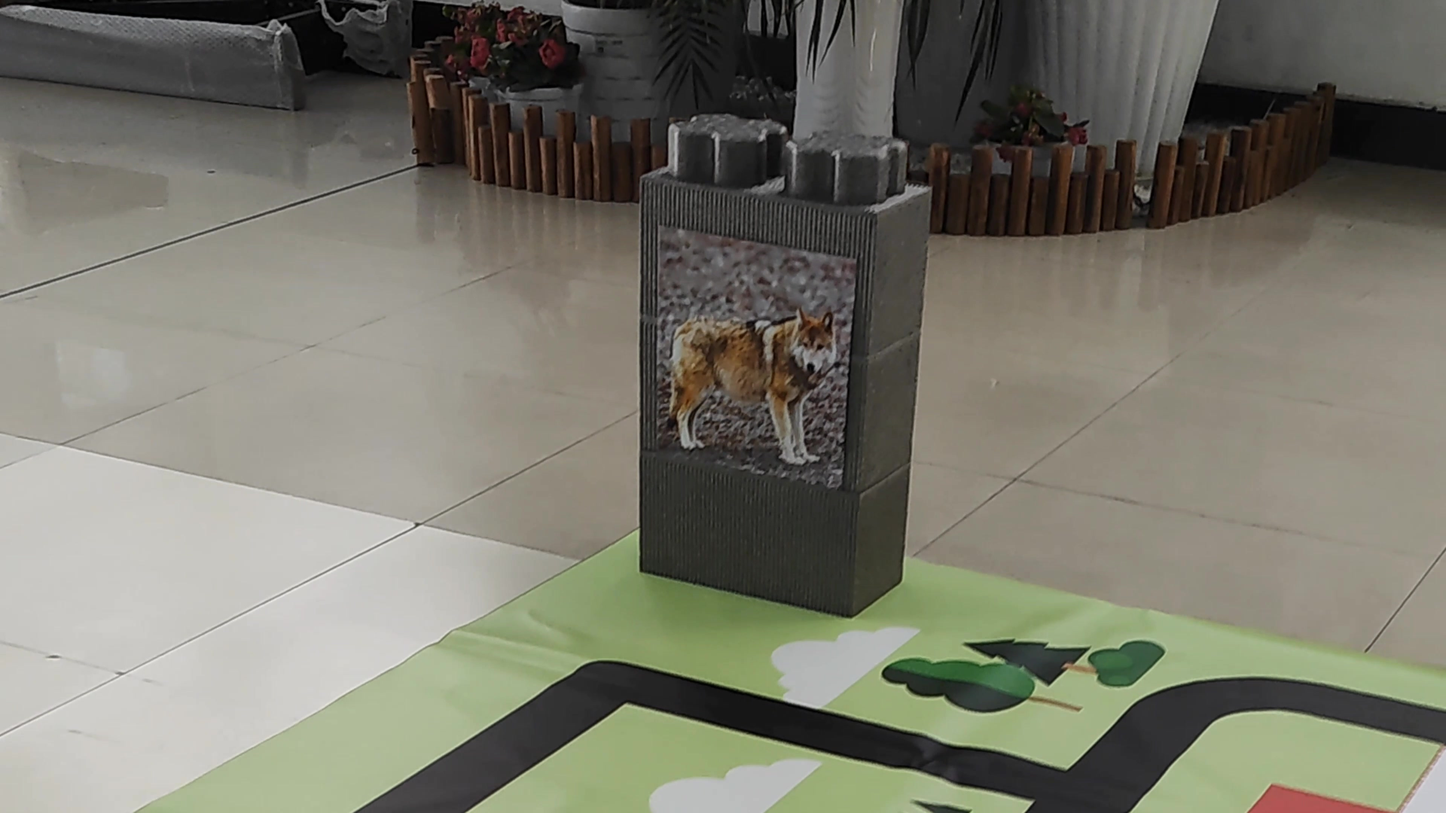wolf: (659, 245, 868, 493)
